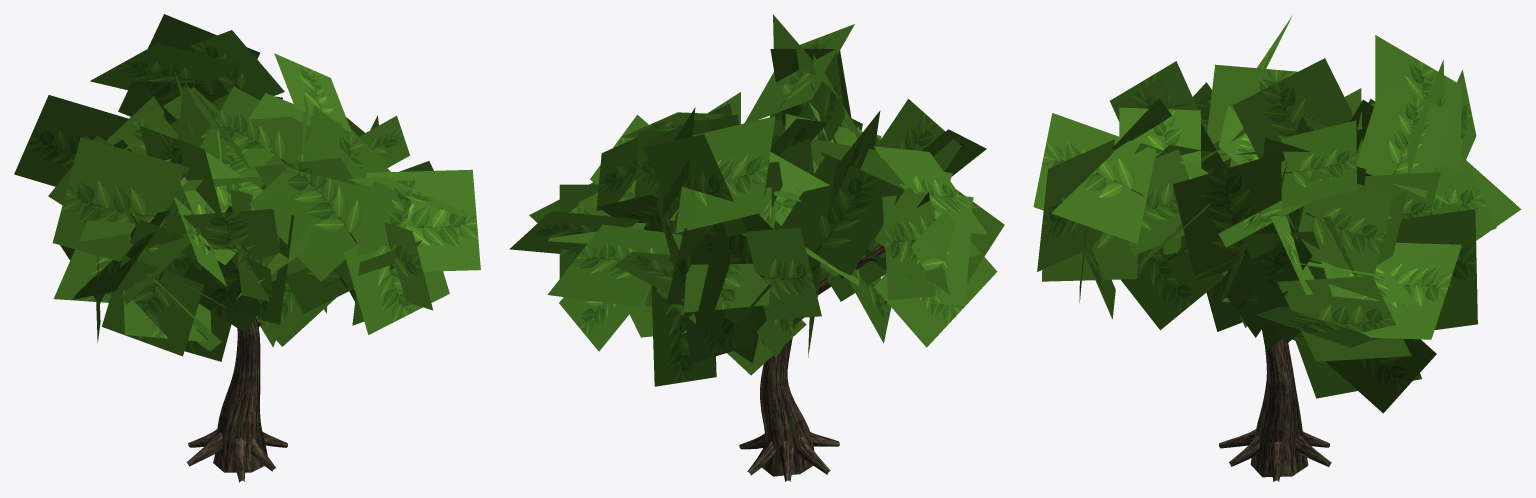
The model's file is tree_hero_broadleaf_01_distance.glb.
3 views of the same model, side by side, from view 1: azimuth 30°, elevation 25°; view 2: azimuth 150°, elevation 25°; view 3: azimuth 270°, elevation 25° (orthographic). The views are drawn at different scales.
Visible parts, largest first — view 1: Tree_Foliage, Tree_Wood; view 2: Tree_Foliage, Tree_Wood; view 3: Tree_Foliage, Tree_Wood.
Part boxes in pixels (x1,y1,x2,y2): Tree_Foliage: [14, 14, 480, 361]; Tree_Wood: [177, 269, 287, 482]; Tree_Foliage: [509, 14, 1004, 386]; Tree_Wood: [739, 244, 885, 481]; Tree_Foliage: [1033, 15, 1521, 413]; Tree_Wood: [1219, 338, 1331, 481].
Size of the model in its own units: 10.85 by 9.77 by 10.45.
Materials: 2 (2 with a texture image).
